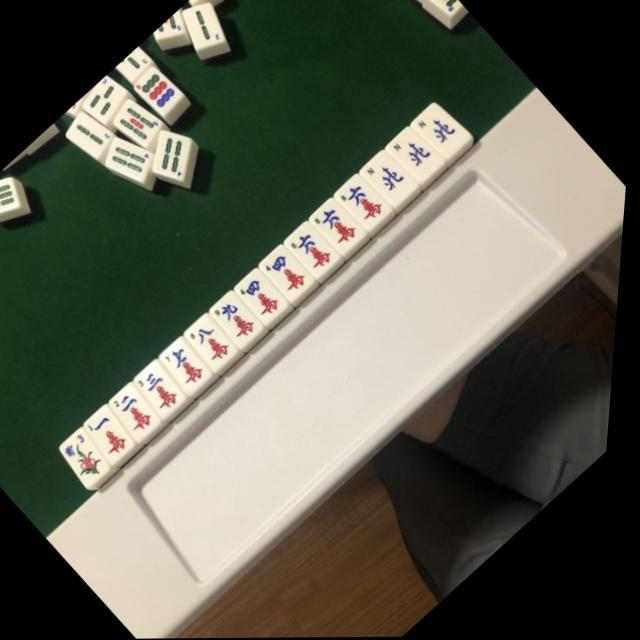bf3: (61, 428, 122, 487)
hwn: (386, 125, 448, 185), (362, 150, 422, 207), (414, 103, 473, 159)
sc1: (86, 405, 148, 465)
sc2: (112, 384, 170, 440)
sc3: (135, 361, 196, 419)
sc4: (260, 244, 322, 302), (236, 269, 294, 324)
sc6: (336, 172, 398, 232), (312, 198, 371, 255), (286, 222, 346, 278)
sc7: (163, 340, 220, 393)
sc8: (188, 314, 246, 372)
sc9: (212, 292, 270, 346)
